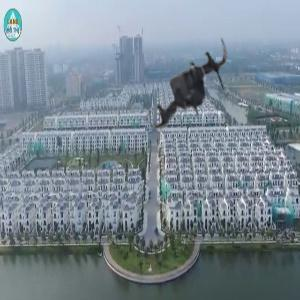drone: (133, 29, 246, 142)
